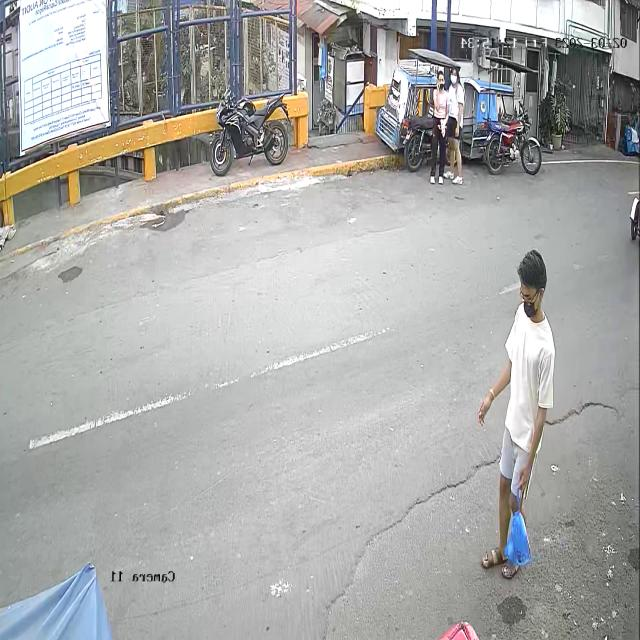human: (478, 250, 554, 579)
trash: (505, 491, 532, 565)
